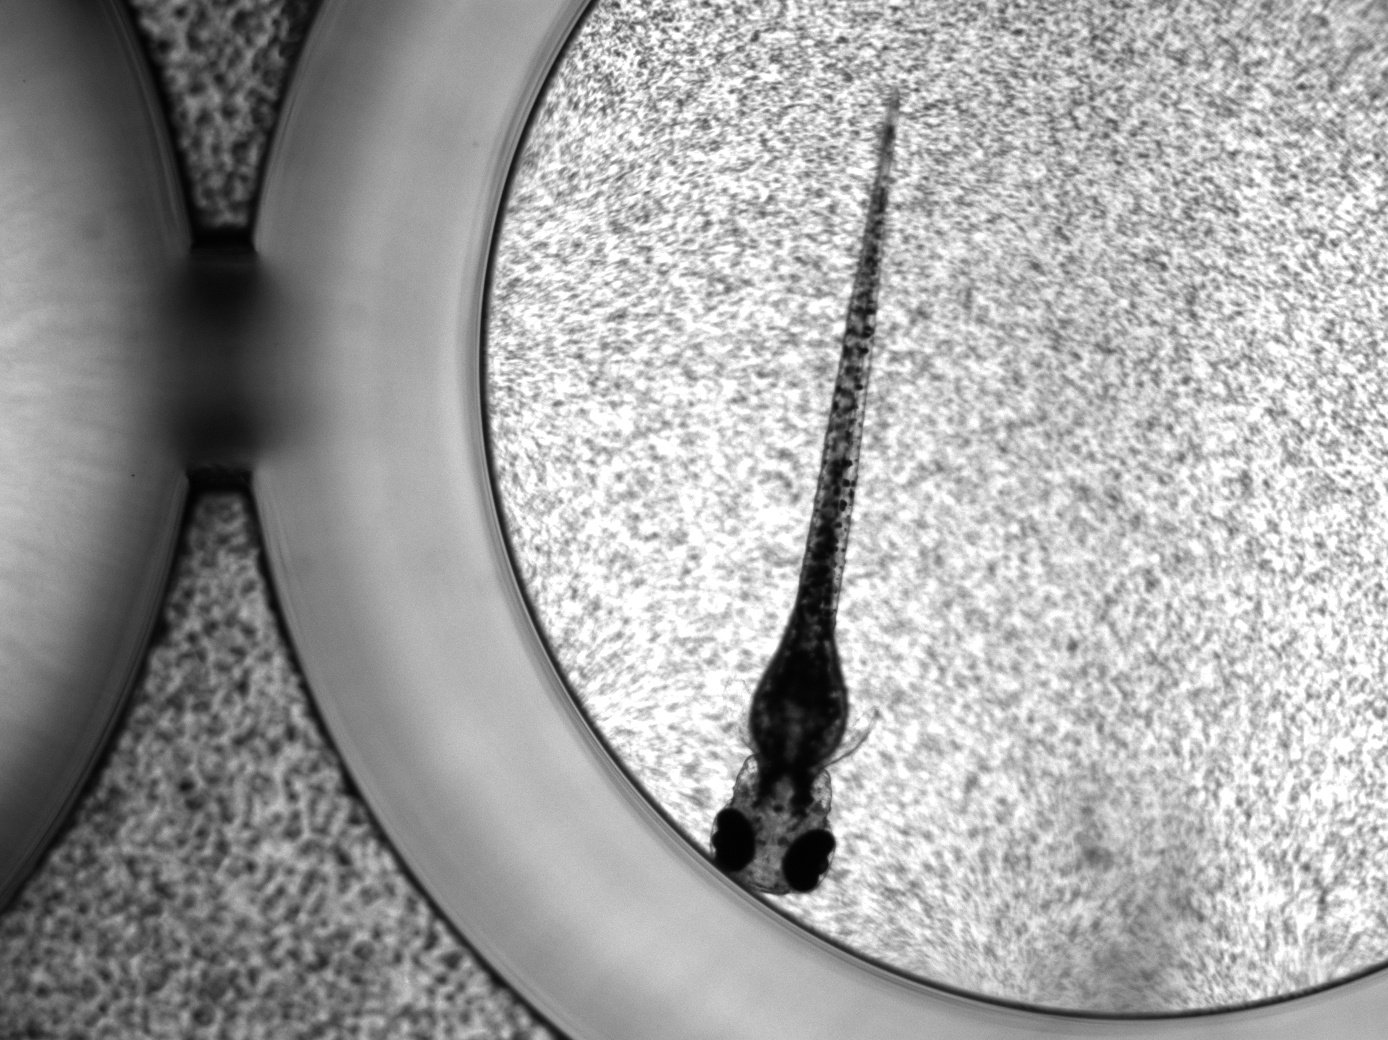embryo: (709, 90, 899, 895)
eye: (783, 829, 837, 895), (711, 808, 755, 874)
yolksac: (748, 647, 849, 764)
